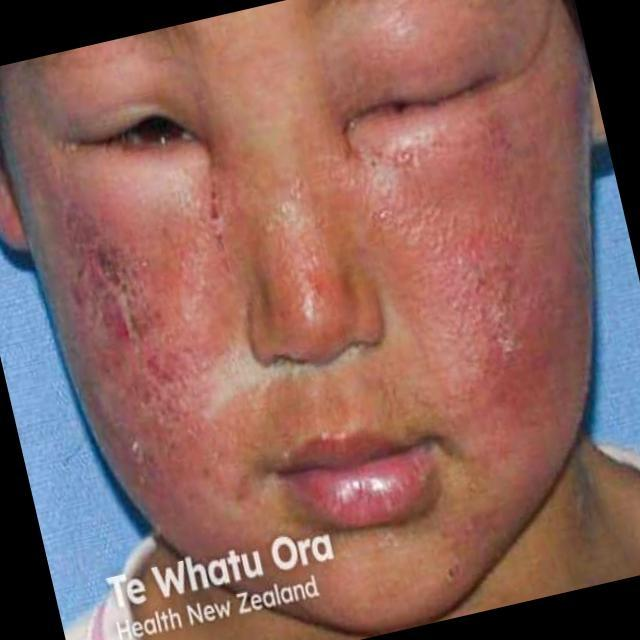Eczema: (363, 99, 582, 447), (61, 146, 254, 514)
